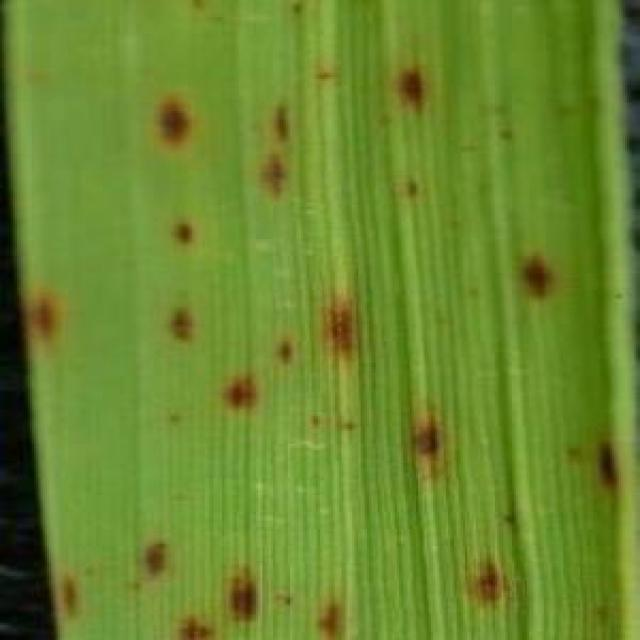Rice: (456, 540, 534, 618), (16, 284, 78, 356), (319, 287, 374, 364), (222, 554, 271, 632), (147, 83, 195, 160), (385, 55, 436, 116), (397, 406, 443, 470), (156, 296, 210, 350), (591, 437, 640, 496), (507, 249, 556, 305), (266, 90, 314, 141), (136, 532, 176, 584), (217, 372, 260, 420), (256, 147, 296, 195), (51, 561, 81, 620), (165, 202, 199, 253), (175, 614, 218, 640), (272, 333, 298, 368)
